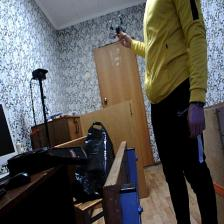drone: (104, 10, 131, 42)
